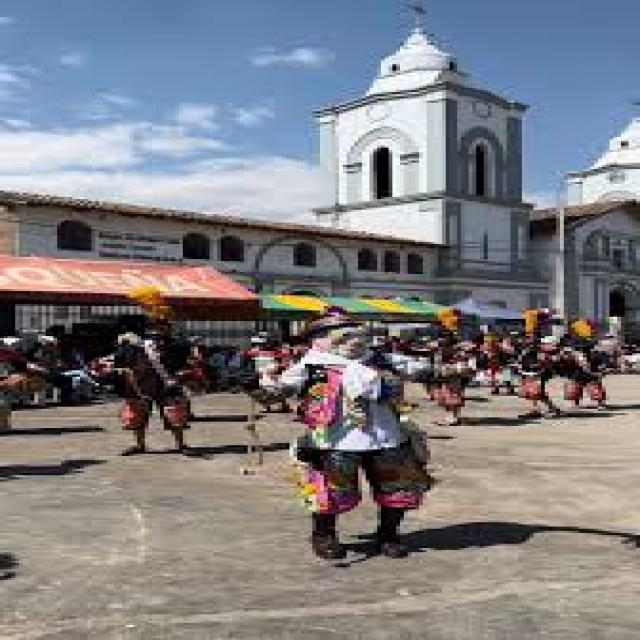CAMPANARIO: (318, 95, 543, 221)
CUPULA: (348, 28, 494, 94)
TORRES: (298, 10, 570, 422)
colonial-architecture-: (0, 0, 632, 367)
